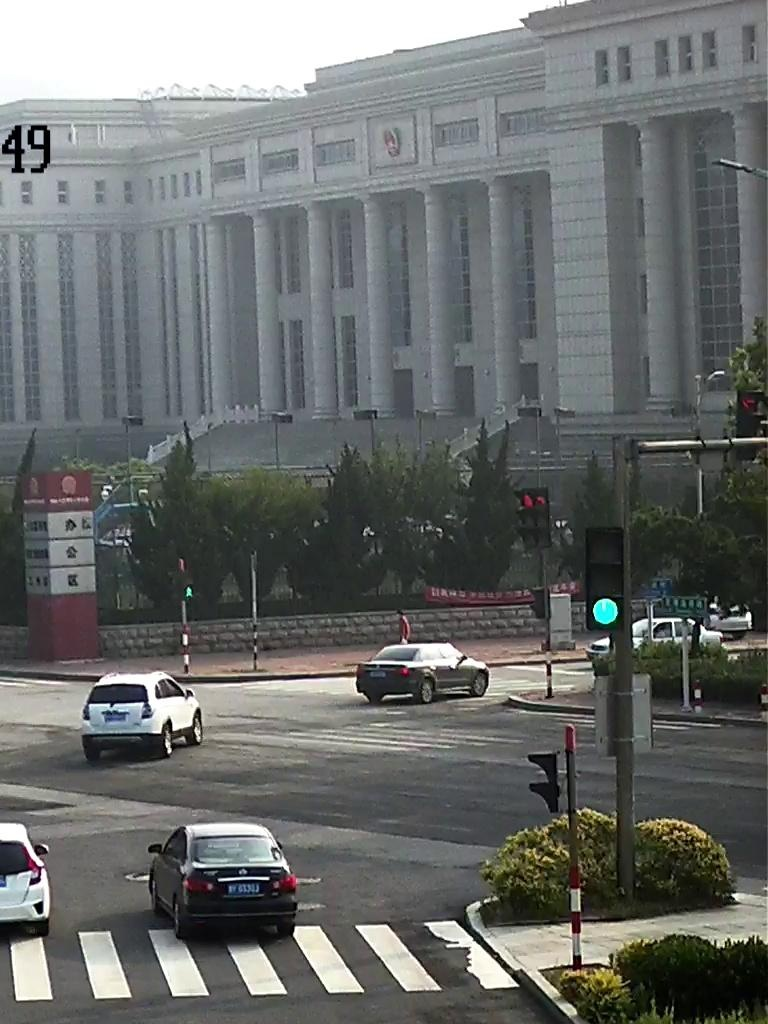green: (591, 598, 620, 628)
greenpeople: (183, 583, 199, 602)
red: (521, 495, 540, 515)
